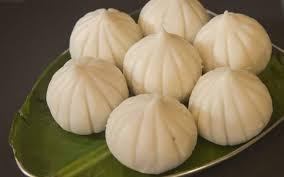modak: (99, 84, 196, 170), (49, 55, 128, 135), (118, 28, 203, 99), (183, 74, 273, 139), (191, 8, 282, 71), (66, 6, 147, 64)
